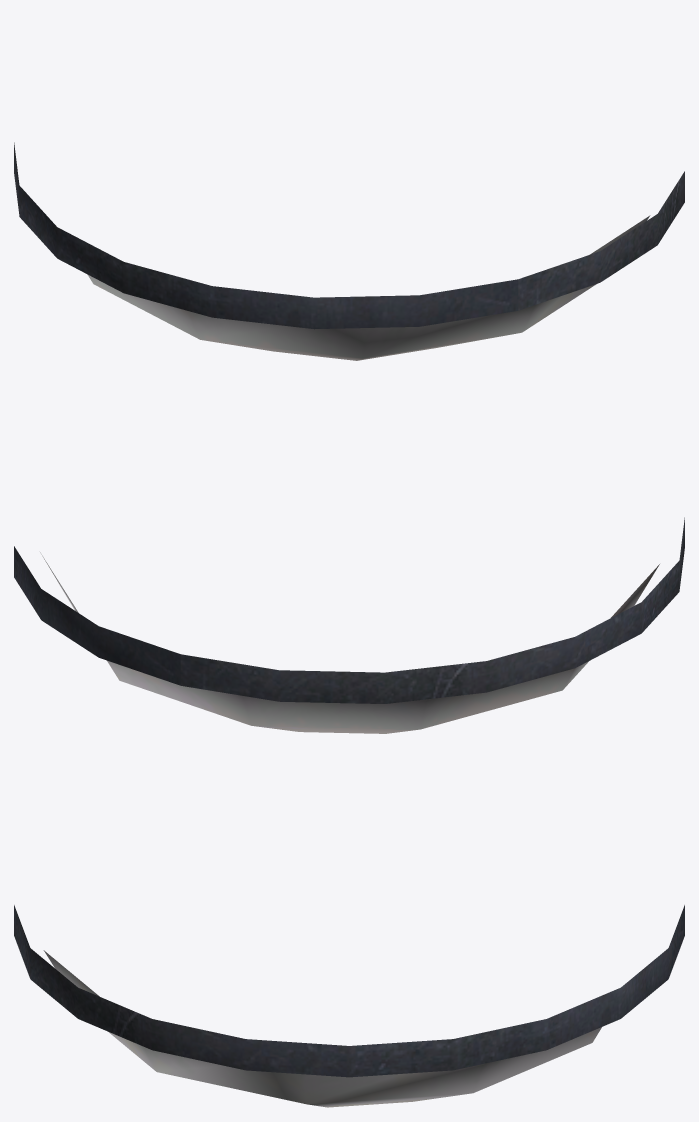
The model's file is Prop_Xdd01.glb.
3 renders of one model, top to bottom at view 1: azimuth 30°, elevation 25°; view 2: azimuth 150°, elevation 25°; view 3: azimuth 270°, elevation 25°, orthographic.
Parts seen in each view (by area): view 1: xiutz_xdd_01; view 2: xiutz_xdd_01; view 3: xiutz_xdd_01.
Boxes of the visible parts, box(x1,y1,x2,y2) form: xiutz_xdd_01: box(14, 142, 684, 360); xiutz_xdd_01: box(14, 517, 684, 733); xiutz_xdd_01: box(14, 905, 684, 1107).
Bounding box in the file's own units: 0.8137 × 0.2164 × 0.8137.
Materials: 1 (1 with a texture image).
